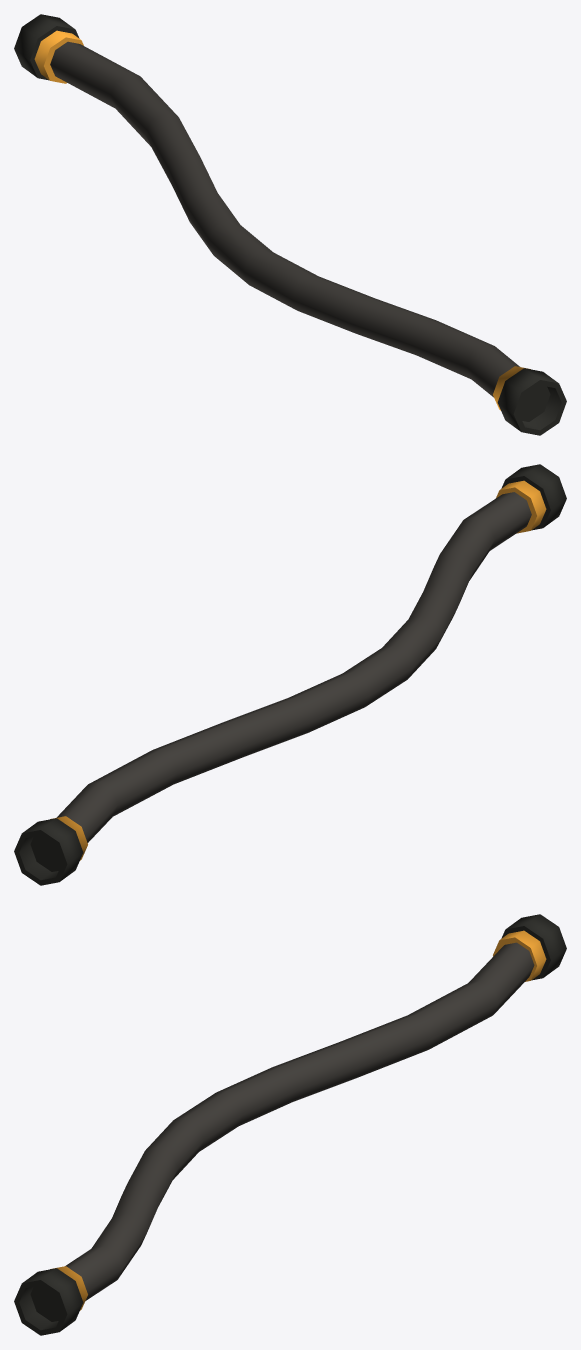
File: Cable_2M_03.glb
The picture shows the model from 3 angles, top to bottom: view 1: azimuth 30°, elevation 25°; view 2: azimuth 150°, elevation 25°; view 3: azimuth 330°, elevation 25°; orthographic projection.
Parts seen in each view (by area): view 1: Cable_2M_03; view 2: Cable_2M_03; view 3: Cable_2M_03.
Boxes of the visible parts, <box> form: Cable_2M_03: <box>14,14,566,435</box>; Cable_2M_03: <box>14,464,566,885</box>; Cable_2M_03: <box>14,914,566,1335</box>.
Size of what is drawn, in the model's own units: 0.2681 by 0.1235 by 2.
Materials: 1 (1 with a texture image).
